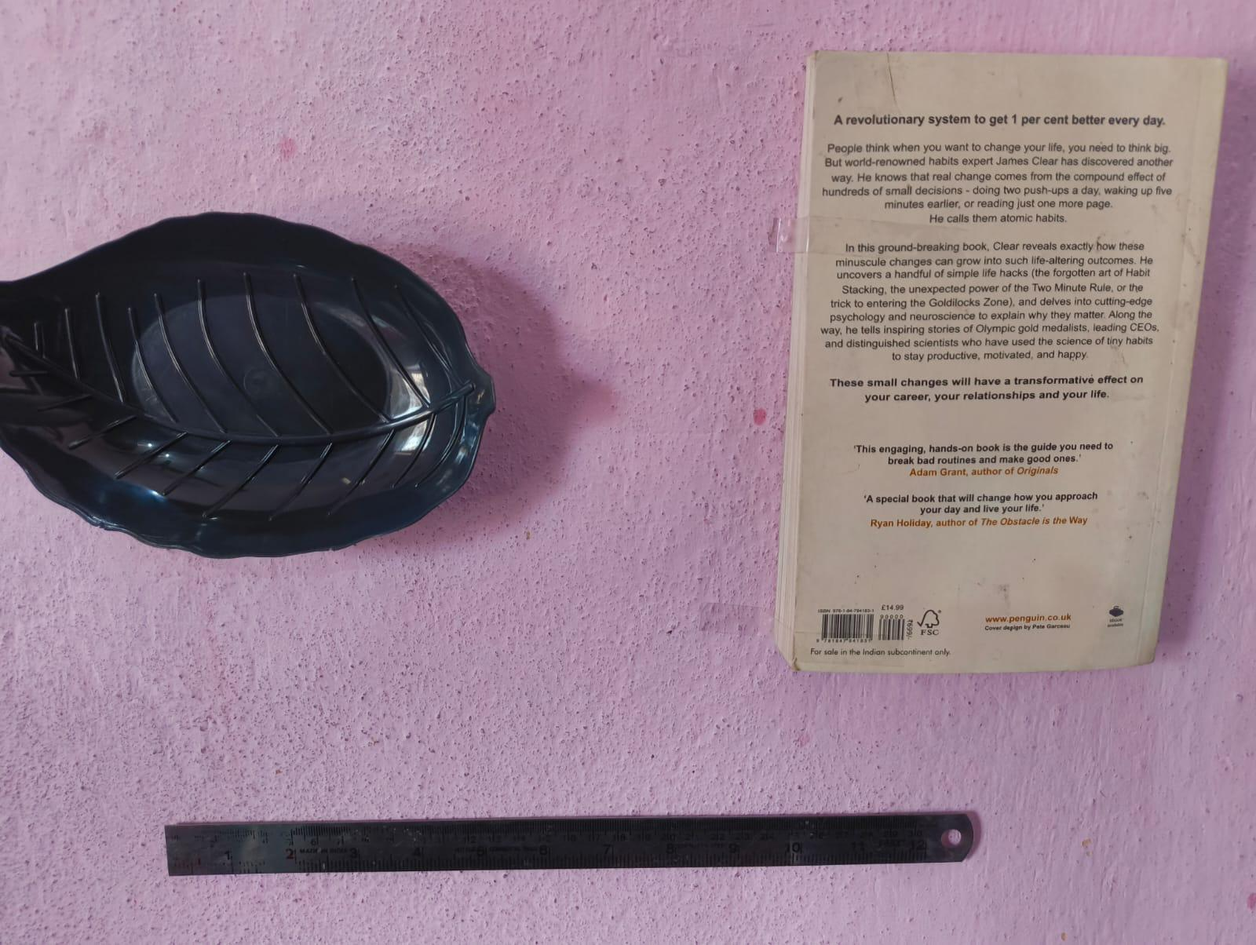Book: (769, 40, 1232, 679)
plate: (0, 208, 500, 567)
scale: (152, 787, 1017, 890)
